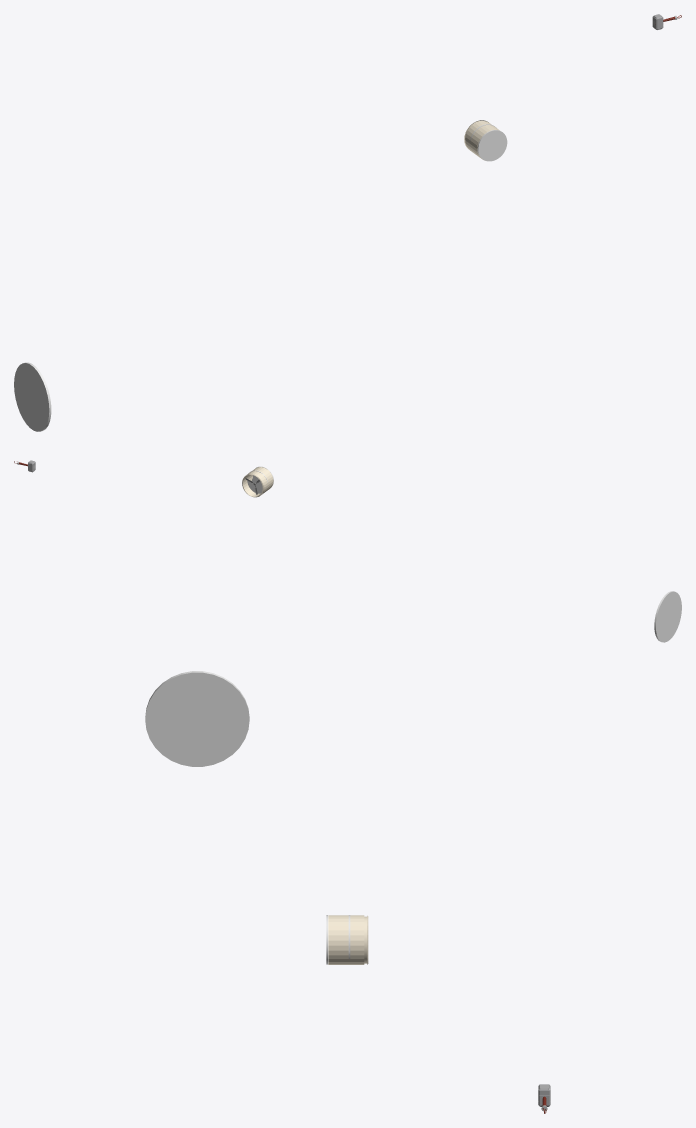
Rendered from cap_shield.fbx.
3 views of the same model, one above another, from view 1: azimuth 30°, elevation 25°; view 2: azimuth 150°, elevation 25°; view 3: azimuth 270°, elevation 25° (orthographic). The views are drawn at different scales.
Parts seen in each view (by area): view 1: Back-of-Fan-Unit001, Back-of-Fan-Unit; view 2: Back-of-Fan-Unit001, Walls-And-Ceiling; view 3: Back-of-Fan-Unit001, Walls-And-Ceiling.
Boxes of the visible parts, x1,y1,x2,y2 form: Back-of-Fan-Unit001: (14, 362, 51, 431); Back-of-Fan-Unit: (477, 130, 507, 161); Back-of-Fan-Unit001: (654, 591, 681, 642); Walls-And-Ceiling: (242, 467, 273, 497); Back-of-Fan-Unit001: (145, 671, 249, 766); Walls-And-Ceiling: (328, 915, 368, 964).
Size of the model in its own units: 1696 by 309 by 524.
